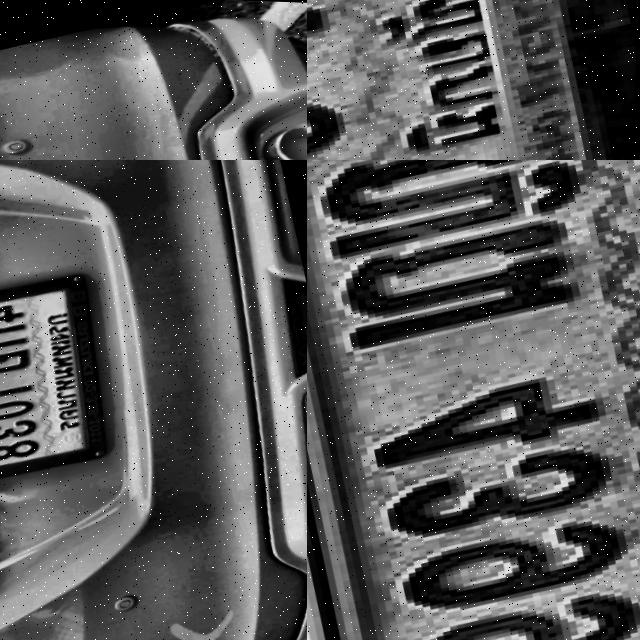license-plate: (307, 160, 640, 640), (307, 0, 640, 160), (0, 255, 139, 492)
